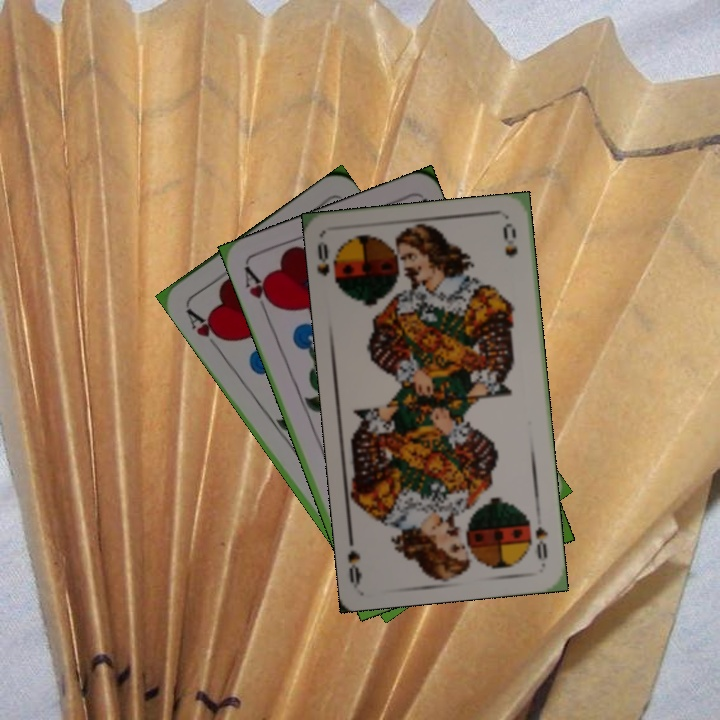HA: (240, 262, 277, 319), (181, 303, 227, 344)
SO: (313, 237, 343, 292), (531, 522, 551, 561)
